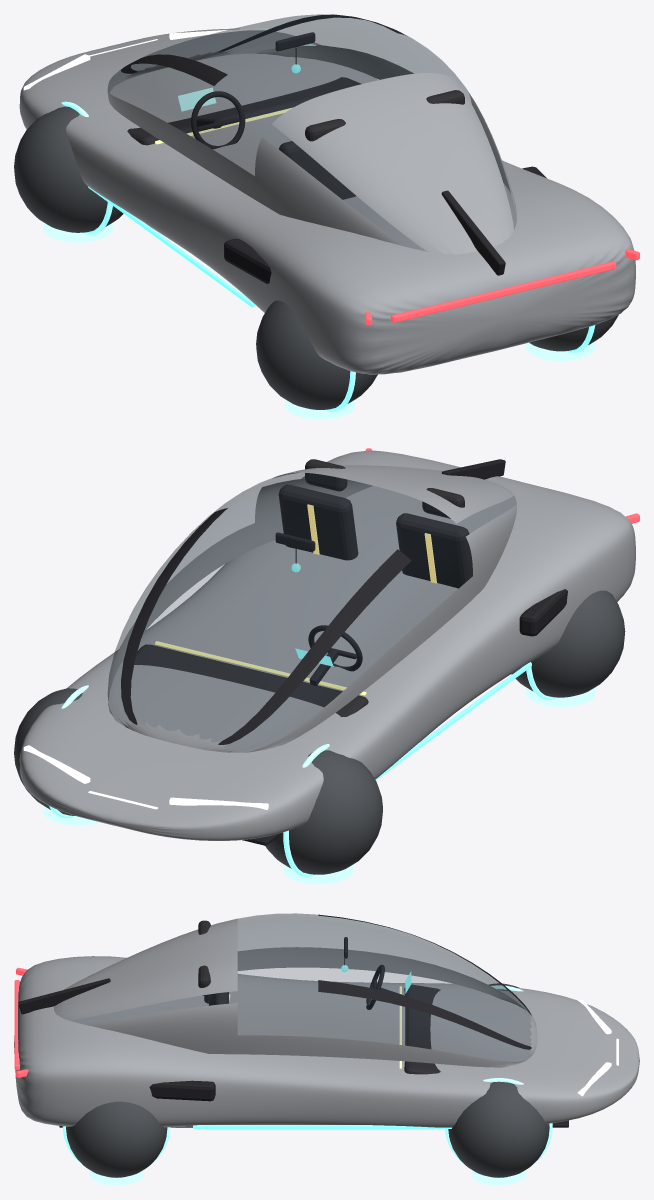
Rendered from car_v1_backup.glb.
3 views of the same model, one above another, from view 1: azimuth 30°, elevation 25°; view 2: azimuth 150°, elevation 25°; view 3: azimuth 270°, elevation 25° (orthographic). The views are drawn at different scales.
Visible parts, largest first — view 1: Body, Canopy, Sphere-11, Sphere-1-1, Dash, Tail, Spine, Intake-1, SeatBackL, Sphere1-1, Sill-1, Yoke (+3 smaller); view 2: Body, Canopy, Sphere-11, Sphere-1-1, SeatBackL, SeatBackR, Dash, Intake-1, Sphere11, Sill-1, HeadrestR, Spine (+4 smaller); view 3: Body, Canopy, Sphere11, Sphere1-1, Dash, Intake1, Spine, Sill1, SphereGlow11, SphereGlow1-1, Tail.
Part boxes in pixels (x1,y1,x2,y2): Body: [19, 28, 635, 374]; Canopy: [107, 14, 516, 254]; Sphere-11: [14, 106, 123, 232]; Sphere-1-1: [256, 300, 377, 409]; Dash: [127, 77, 361, 145]; Tail: [390, 261, 616, 322]; Spine: [441, 190, 505, 275]; Intake-1: [224, 238, 271, 283]; SeatBackL: [279, 141, 356, 199]; Sphere1-1: [529, 315, 618, 351]; Sill-1: [88, 186, 255, 307]; Yoke: [191, 91, 245, 149]; Body: [19, 450, 635, 840]; Canopy: [107, 465, 516, 752]; Sphere-11: [265, 750, 382, 874]; Sphere-1-1: [511, 590, 625, 697]; SeatBackL: [396, 513, 472, 588]; SeatBackR: [278, 484, 358, 560]; Dash: [134, 644, 368, 717]; Intake-1: [519, 589, 567, 636]; Sphere11: [14, 688, 82, 815]; Sill-1: [375, 662, 531, 780]; HeadrestR: [305, 459, 347, 491]; Spine: [441, 459, 505, 479]; Body: [14, 956, 639, 1127]; Canopy: [53, 913, 537, 1067]; Sphere11: [448, 1081, 549, 1177]; Sphere1-1: [66, 1101, 167, 1177]; Dash: [404, 984, 440, 1074]; Intake1: [149, 1080, 215, 1101]; Spine: [18, 978, 110, 1014]; Sill1: [193, 1125, 451, 1128]; SphereGlow11: [471, 1170, 526, 1185]; SphereGlow1-1: [88, 1170, 144, 1185]; Tail: [14, 980, 19, 1070].
Bounding box in the file's own units: 2.52 × 1.66 × 4.91.
